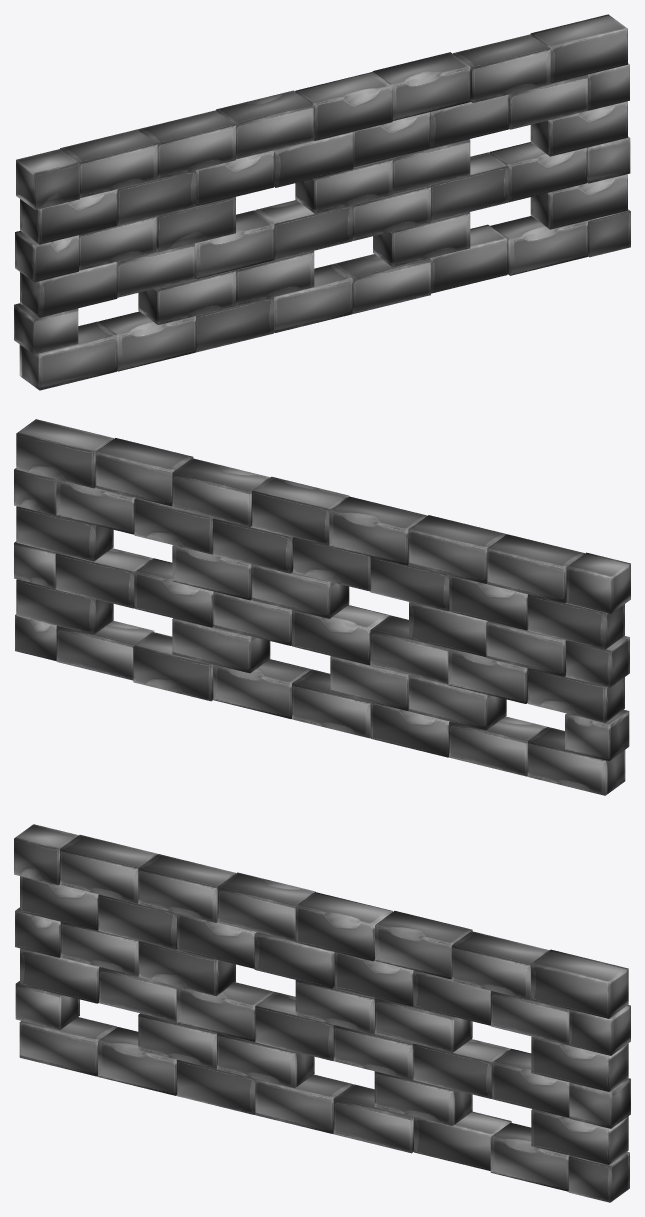
File: brick_wall_2.fbx
3 views of the same model, one above another, from view 1: azimuth 30°, elevation 25°; view 2: azimuth 150°, elevation 25°; view 3: azimuth 330°, elevation 25° (orthographic).
Parts seen in each view (by area): view 1: brick_wall_2; view 2: brick_wall_2; view 3: brick_wall_2.
Part boxes in pixels (x1,y1,x2,y2): brick_wall_2: (14, 14, 630, 390); brick_wall_2: (14, 419, 630, 795); brick_wall_2: (14, 824, 630, 1202).
Size of the model in its own units: 6.02 by 2.11 by 0.3891.
